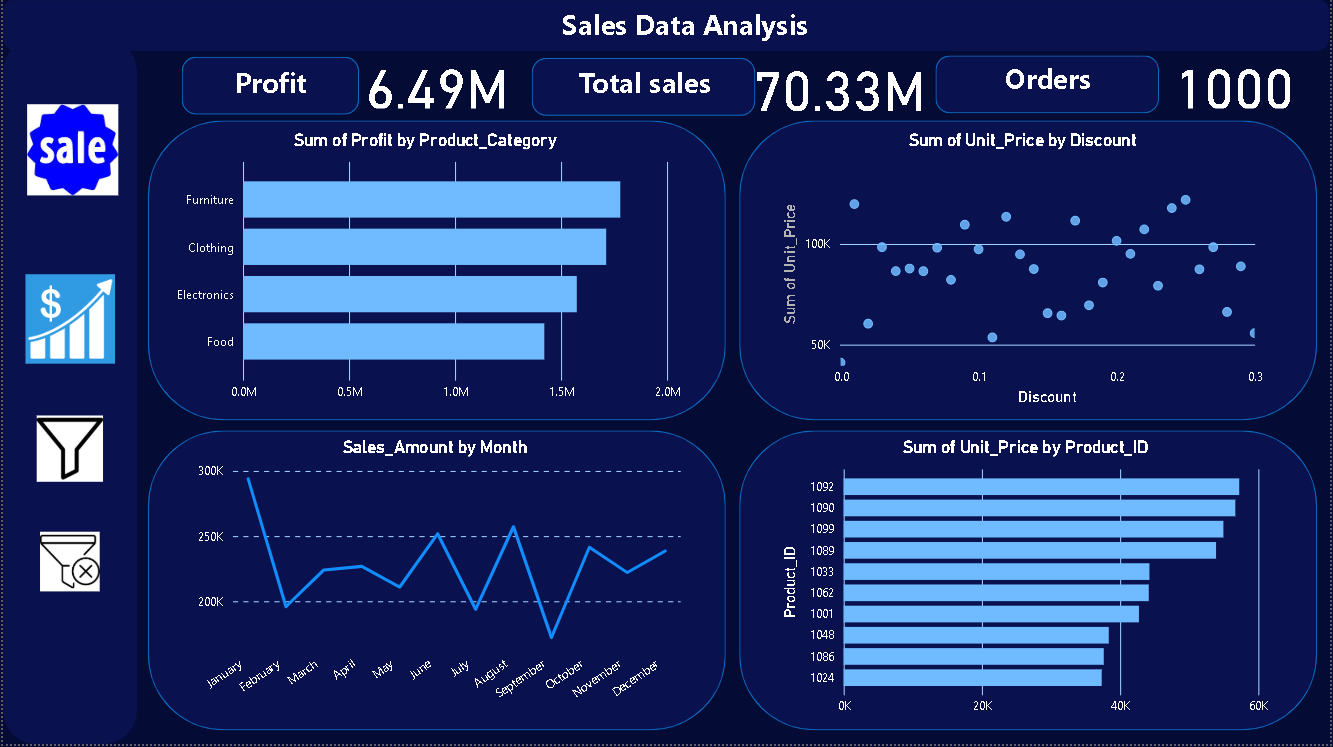

The dashboard page shown, as its layout file describes it:
{"tool":"powerbi","page":{"name":"Sales","canvas":[1280,720],"ordinal":0},"visuals":[{"type":"shape","box":[711,417.4,557.9,289.4],"z":0},{"type":"shape","box":[140.5,417.4,557.9,289.4],"z":1000},{"type":"shape","box":[711,118.3,557.9,289.4],"z":2000},{"type":"shape","box":[140.5,118.3,557.9,289.4],"z":3000},{"type":"lineChart","title":"Sales_Amount by Month","fields":{"Category":["sales_data.Sale_Date.Variation.Date Hierarchy.Month"],"Y":["Sum(sales_data.Unit_Price)"]},"box":[176.7,423,482.8,278.3],"z":4000},{"type":"clusteredBarChart","fields":{"Category":["sales_data.Product_ID"],"Y":["Sum(sales_data.Unit_Price)"]},"box":[747.1,423,480,278.3],"z":5000},{"type":"scatterChart","fields":{"X":["sales_data.Discount"],"Y":["Sum(sales_data.Unit_Price)"]},"box":[747.1,126.6,474.4,271.3],"z":6000},{"type":"barChart","fields":{"Category":["sales_data.Product_Category"],"Y":["Sum(sales_data.Profit)"]},"box":[157.2,126.6,502.3,271.3],"z":7000},{"type":"shape","box":[0,0,1280,51.5],"z":8000},{"type":"shape","box":[0,39,129.4,681.7],"z":9000},{"type":"card","title":"Profit","fields":{"Values":["Sum(sales_data.Profit)"]},"box":[290.8,50.1,256,61.2],"z":10000},{"type":"shape","title":"Profit","box":[172.5,57,171.1,55.7],"z":11000},{"type":"textbox","box":[201.7,58.4,114.1,52.9],"z":12000},{"type":"shape","title":"Profit","box":[510.6,58.4,215.7,55.7],"z":13000},{"type":"card","title":"Profit","fields":{"Values":["Sum(sales_data.Column)"]},"box":[679,52.9,256,61.2],"z":14000},{"type":"shape","title":"Profit","box":[900.2,55.7,215.7,55.7],"z":15000},{"type":"card","title":"Profit","fields":{"Values":["CountNonNull(sales_data.Product_ID)"]},"box":[1095,50.1,185,61.2],"z":16000},{"type":"textbox","box":[951.7,54.3,114.1,52.9],"z":17000},{"type":"textbox","box":[541.2,58.4,155.8,52.9],"z":18000},{"type":"textbox","box":[451.2,2.4,415,53.1],"z":19000},{"type":"image","box":[16.9,261.8,96.5,96.5],"z":20000},{"type":"image","box":[16.9,97.7,101.3,97.7],"z":21000},{"type":"image","box":[25.3,398.1,78.4,73.6],"z":22000},{"type":"image","box":[25.3,510.3,78.4,67.6],"z":23000}]}

Visuals, with their boxes in screenshot pixels (x1, y1, x2, y2), scaled from the page's 1280x720 canvas onto the 1333x747 screenshot:
shape: [left=740, top=433, right=1321, bottom=733]
shape: [left=146, top=433, right=727, bottom=733]
shape: [left=740, top=123, right=1321, bottom=423]
shape: [left=146, top=123, right=727, bottom=423]
"Sales_Amount by Month" lineChart: [left=184, top=439, right=687, bottom=728]
clusteredBarChart - sales_data.Product_ID x Sum(sales_data.Unit_Price): [left=778, top=439, right=1278, bottom=728]
scatterChart - sales_data.Discount x Sum(sales_data.Unit_Price): [left=778, top=131, right=1272, bottom=413]
barChart - sales_data.Product_Category x Sum(sales_data.Profit): [left=164, top=131, right=687, bottom=413]
shape: [left=0, top=0, right=1332, bottom=53]
shape: [left=0, top=40, right=135, bottom=746]
"Profit" card: [left=303, top=52, right=569, bottom=115]
"Profit" shape: [left=180, top=59, right=358, bottom=117]
textbox: [left=210, top=61, right=329, bottom=115]
"Profit" shape: [left=532, top=61, right=756, bottom=118]
"Profit" card: [left=707, top=55, right=974, bottom=118]
"Profit" shape: [left=937, top=58, right=1162, bottom=116]
"Profit" card: [left=1140, top=52, right=1332, bottom=115]
textbox: [left=991, top=56, right=1110, bottom=111]
textbox: [left=564, top=61, right=726, bottom=115]
textbox: [left=470, top=2, right=902, bottom=58]
image: [left=18, top=272, right=118, bottom=372]
image: [left=18, top=101, right=123, bottom=203]
image: [left=26, top=413, right=108, bottom=489]
image: [left=26, top=529, right=108, bottom=600]
